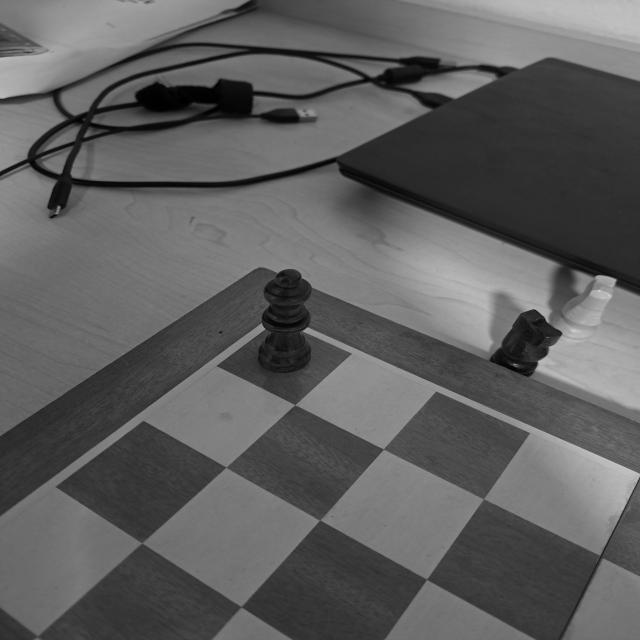chess-table-corners: (235, 292, 328, 358)
